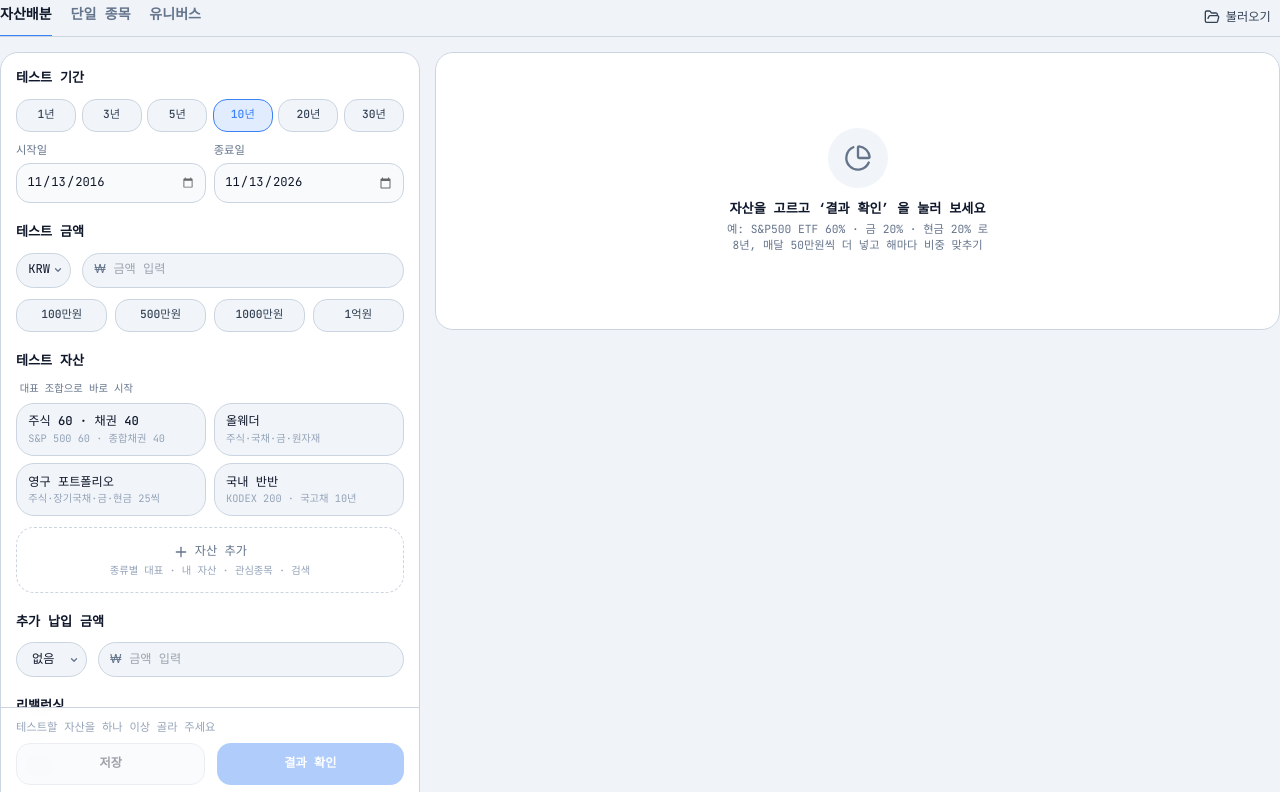
Test case: 수수료를 뺀 손익을 같이 보여 준다 › 수수료를 넣었으면 거래마다 순손익 칸이 있다
Click the tab "단일 종목". click: (101, 18)
box: [70,0,131,37]
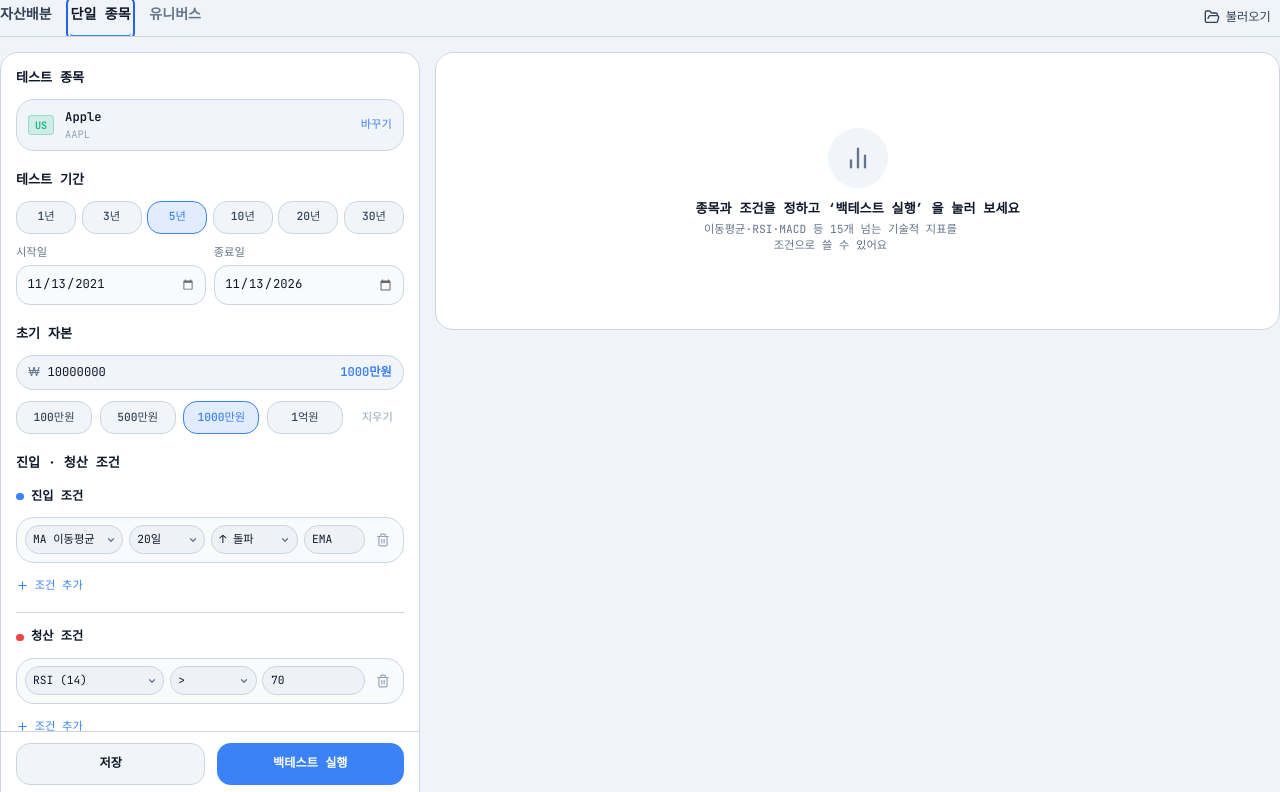
Type "2020-01-01" into the date field labelled "시작일". click: (111, 285)
box: [16,265,206,305]
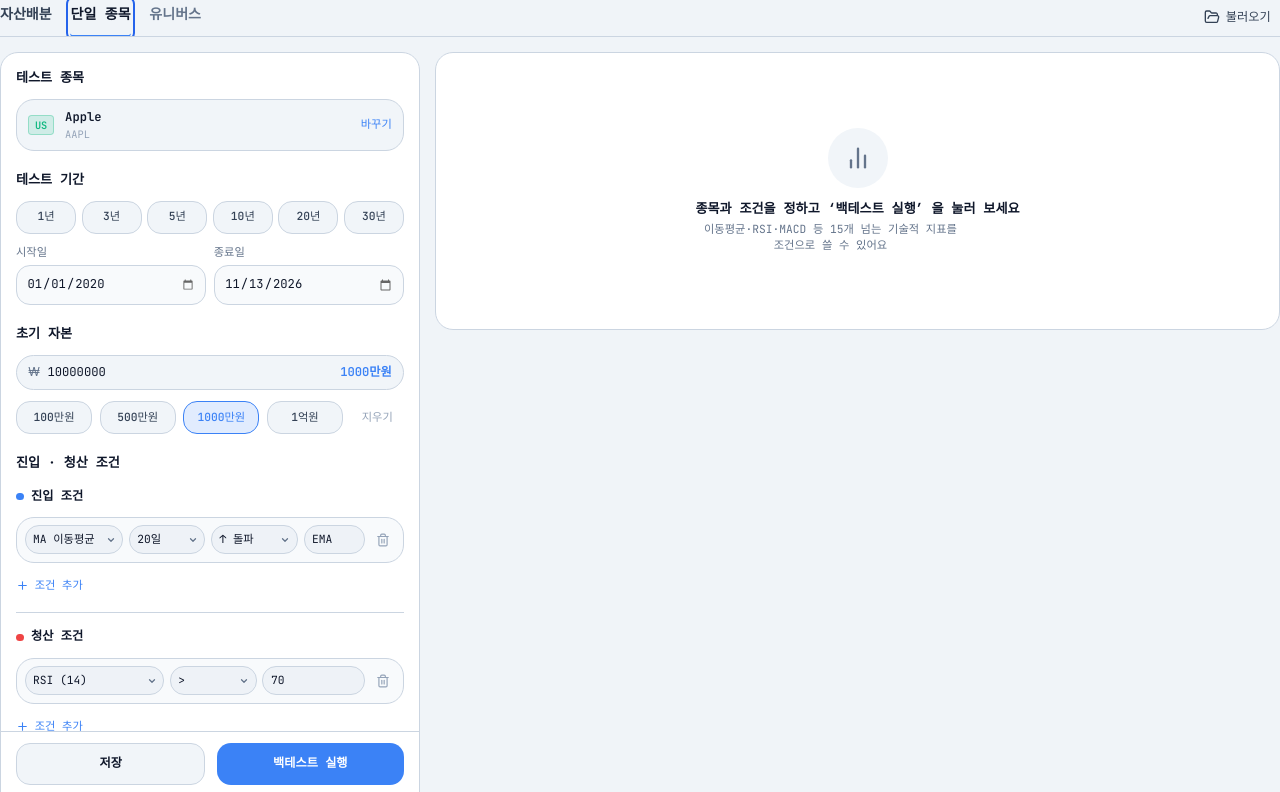
Type "2024-12-31" into the date field labelled "종료일". click: (309, 285)
box: [214,265,404,305]
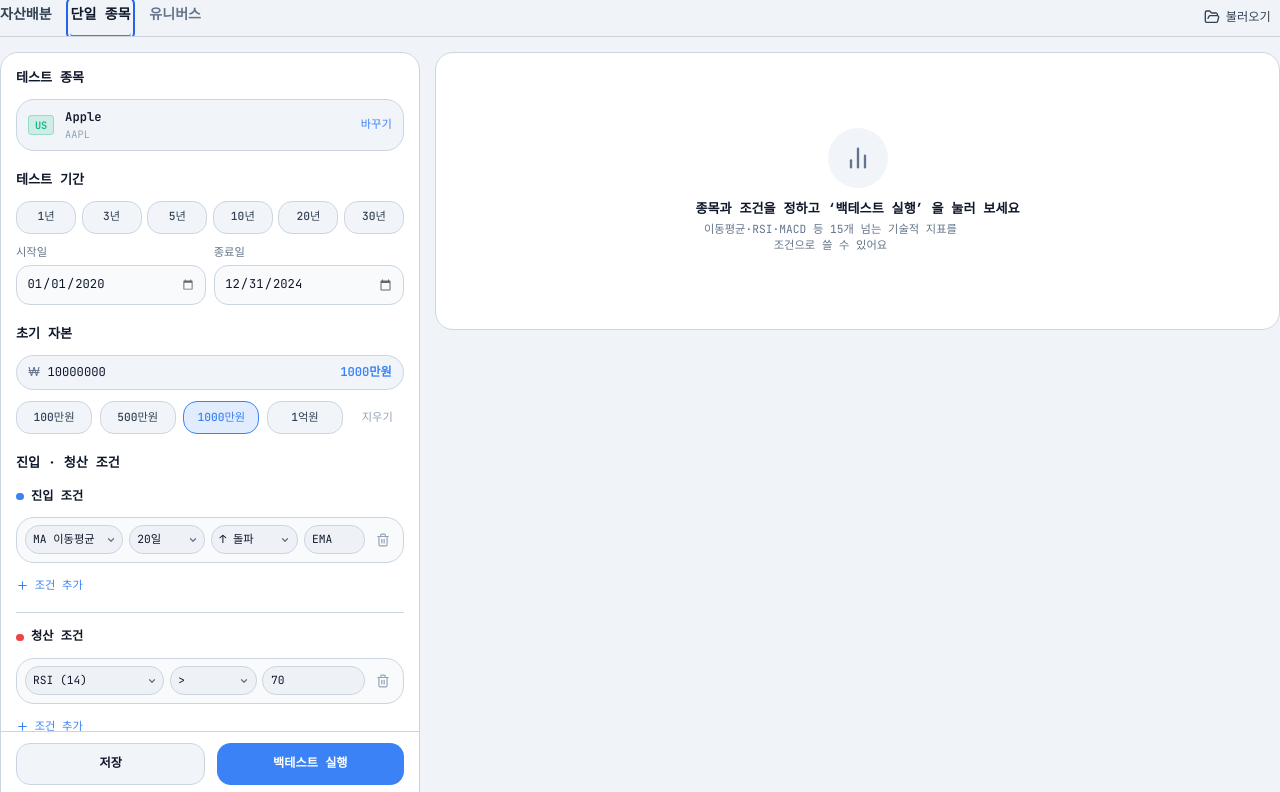
Click the button "백테스트 실행". click: (310, 764)
box: [217,743,404,785]
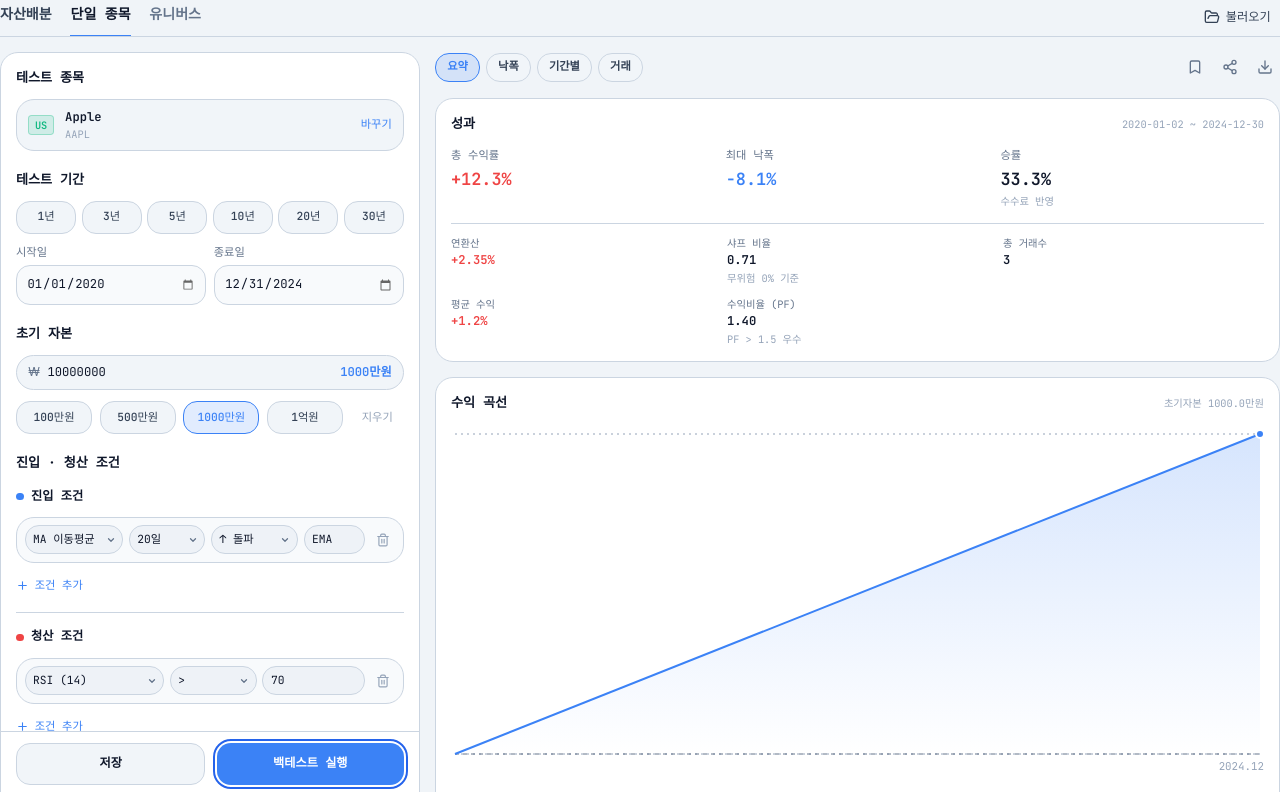
Click the tab "거래". click: (620, 67)
box: [598,53,643,82]
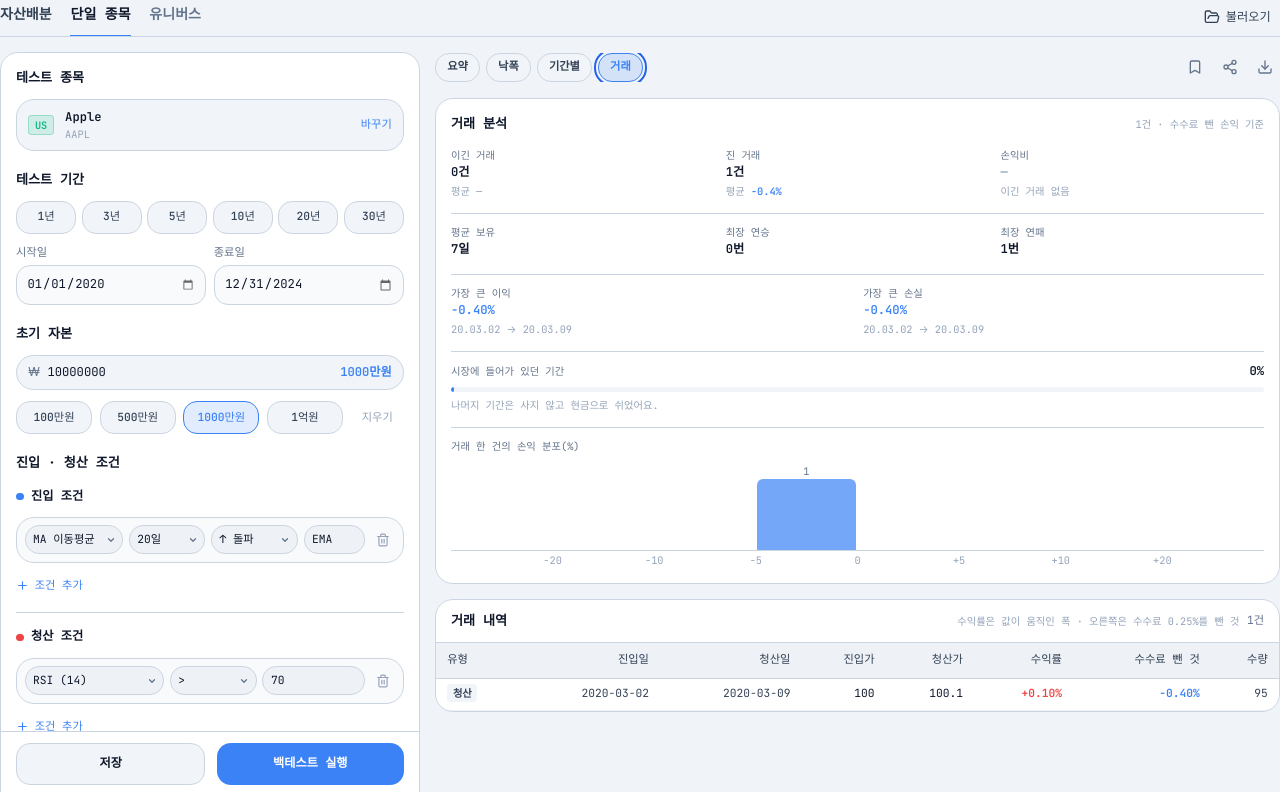
Expected: the column heading "수수료 뺀 것" is shown, [1073,643,1211,678]
Expected: the text "-0.40%" in the row of "2020-03-02" is shown, [1159,686,1200,700]
